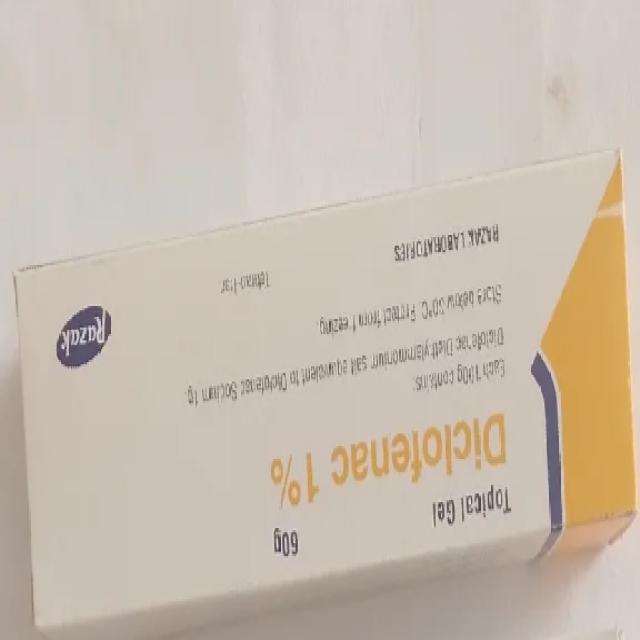drug-name: (324, 403, 510, 496)
